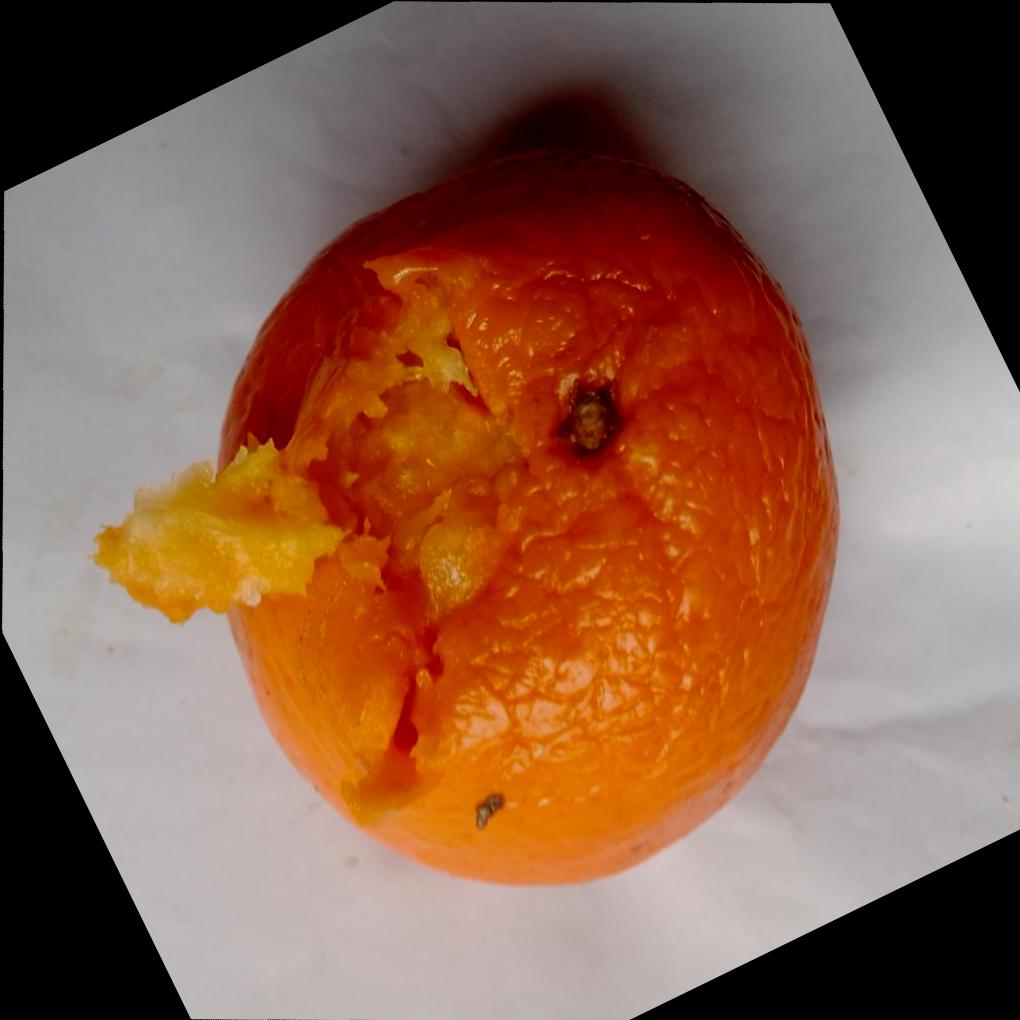FreshOrange: (96, 144, 845, 887)
